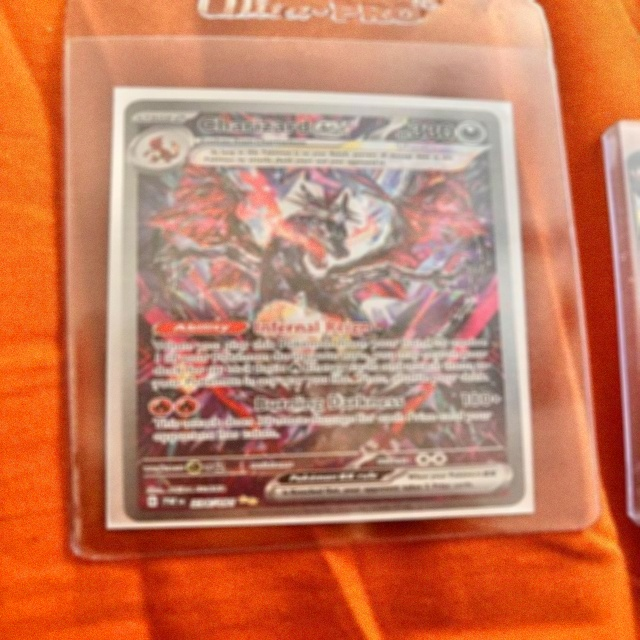card: (121, 98, 529, 524)
